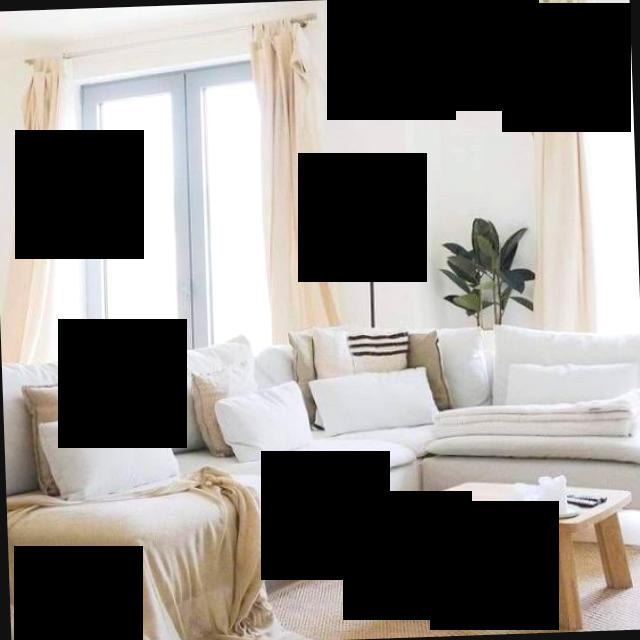white desk: (394, 458, 640, 624)
white sofa: (0, 325, 429, 640)
